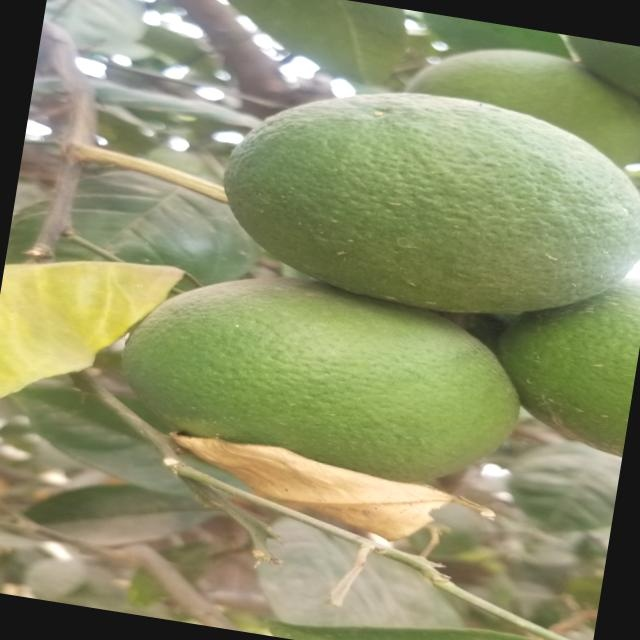agrume: (214, 57, 640, 347), (98, 262, 544, 534)
